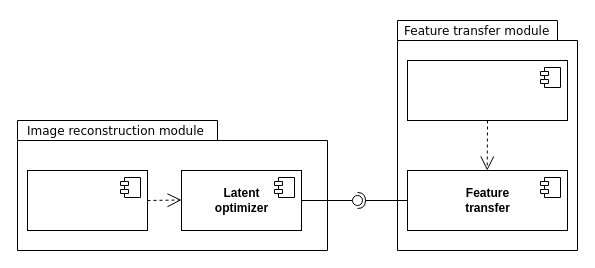
This 595x268 diagram has some shape labels left out. The shapes that lost their labels are listed below. From the top down, each one's centre as x and y in pixels, then its label:
[487,90]: Semantic vector extraction
[87,200]: Initial predictor
